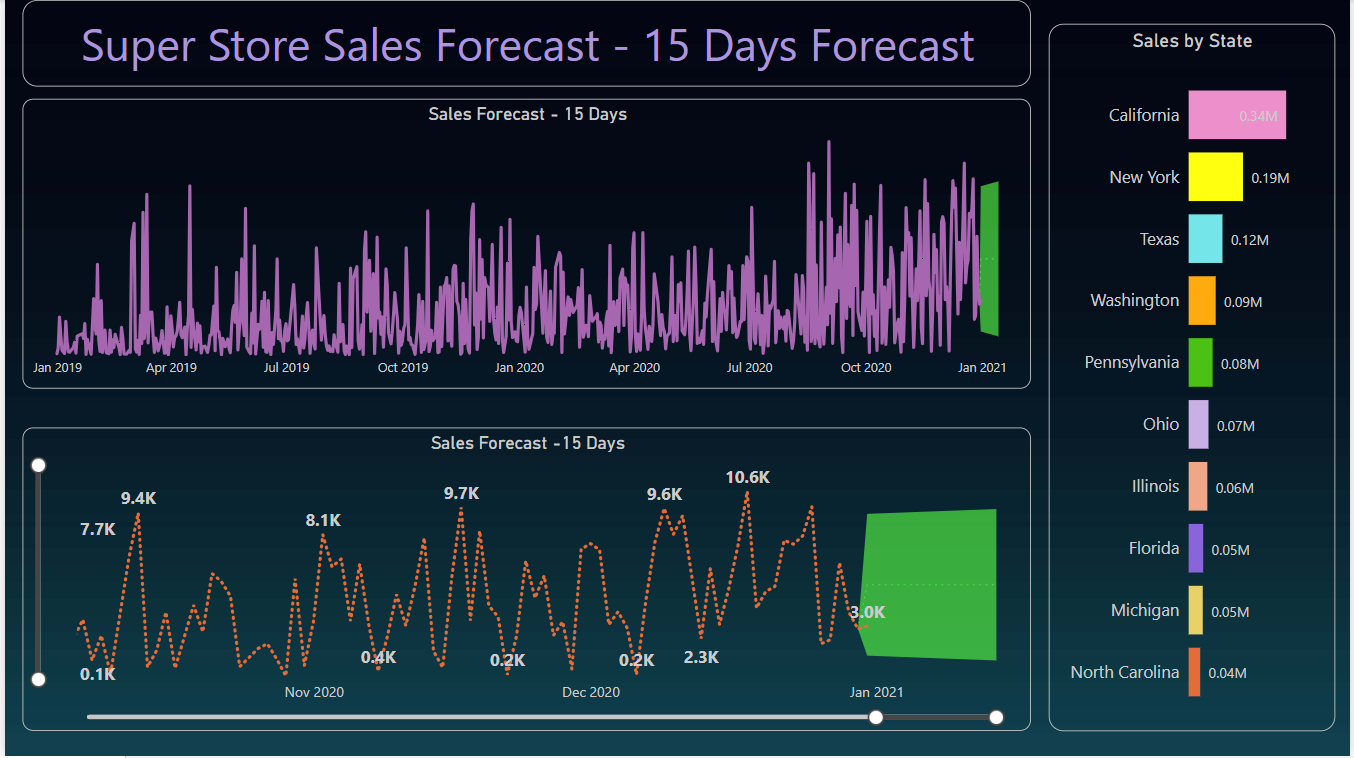

What the dashboard file says about the page in this screenshot:
{"tool":"powerbi","page":{"name":"Sales Forecast","canvas":[1280,720],"ordinal":1},"visuals":[{"type":"lineChart","title":"Sales Forecast - 15 Days","fields":{"Y":["Sum(SuperStore_Sales_Dataset.Sales)"],"Category":["SuperStore_Sales_Dataset.Order Date"]},"box":[16.7,94,960.4,276.1],"z":0},{"type":"lineChart","title":"Sales Forecast -15 Days","fields":{"Y":["Sum(SuperStore_Sales_Dataset.Sales)"],"Category":["SuperStore_Sales_Dataset.Order Date"]},"box":[16.7,407,960.4,289.2],"z":1000},{"type":"clusteredBarChart","title":"Sales by State","fields":{"Y":["Sum(SuperStore_Sales_Dataset.Sales)"],"Category":["SuperStore_Sales_Dataset.State"]},"box":[993.7,22.6,272.5,673.6],"z":2000},{"type":"textbox","box":[16.7,0,960.4,82.1],"z":3000}]}

Visuals, with their boxes in screenshot pixels (x1, y1, x2, y2), scaled from the page's 1280x720 canvas onto the 1354x758 screenshot:
"Sales Forecast - 15 Days" lineChart: (18,99,1034,390)
"Sales Forecast -15 Days" lineChart: (18,428,1034,733)
"Sales by State" clusteredBarChart: (1051,24,1339,733)
textbox: (18,0,1034,86)
